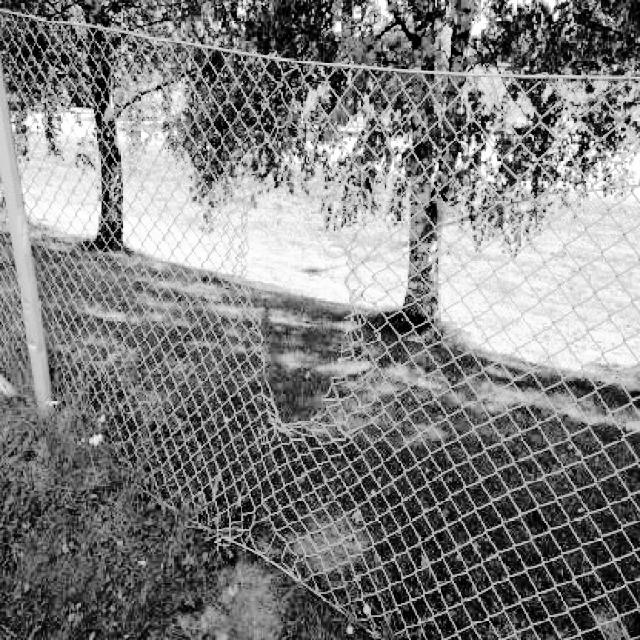anomaly-fence: (179, 130, 430, 451)
